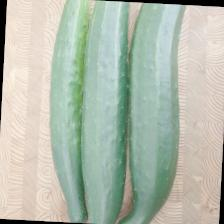cucumber: (115, 0, 186, 224), (73, 0, 135, 224), (40, 0, 99, 223)
